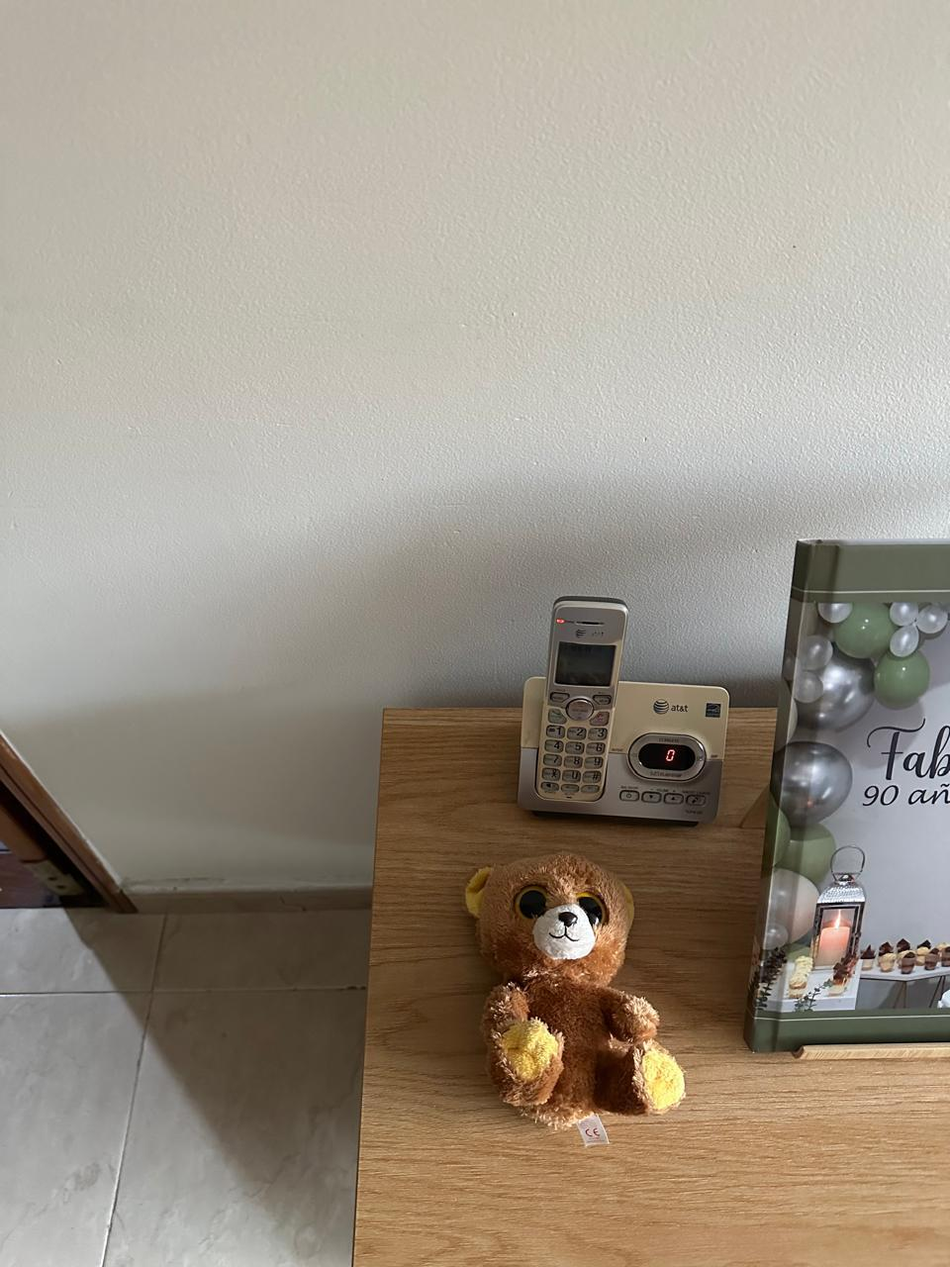peluche_sebastian: (465, 854, 688, 1133)
